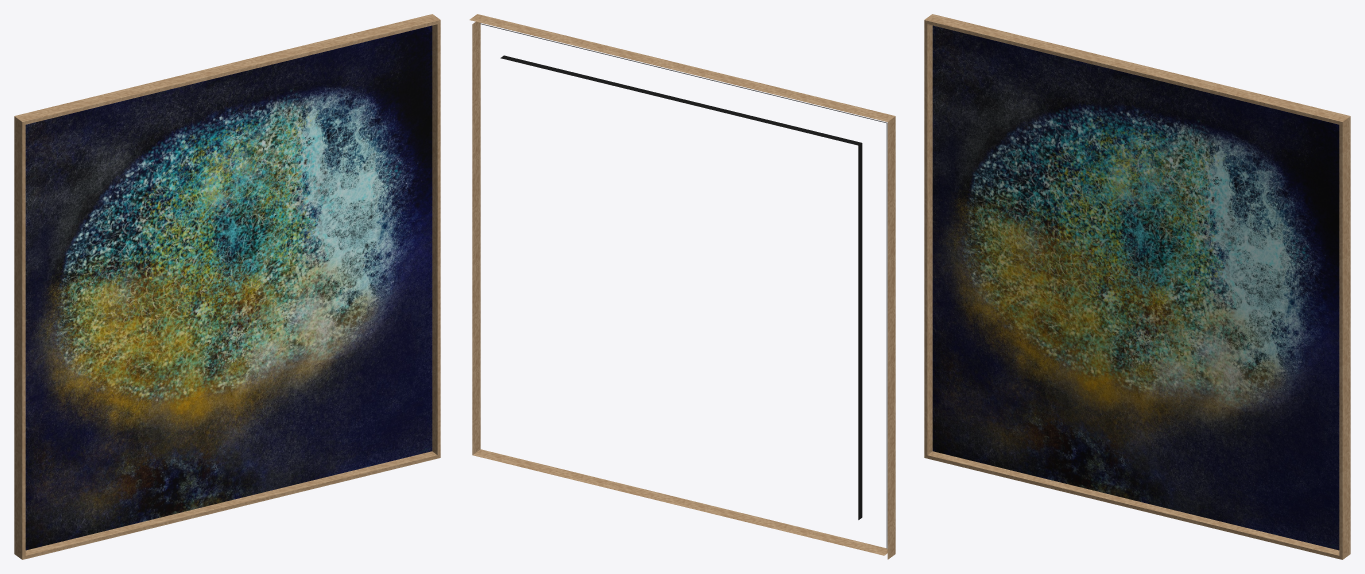
Rendered from va352_grand_caisse-chene.glb.
3 views of the same model, side by side, from view 1: azimuth 30°, elevation 25°; view 2: azimuth 150°, elevation 25°; view 3: azimuth 330°, elevation 25° (orthographic).
Parts seen in each view (by area): view 1: va352_grand_caisse-chene; view 2: va352_grand_caisse-chene; view 3: va352_grand_caisse-chene.
Boxes of the visible parts, x1,y1,x2,y2 form: va352_grand_caisse-chene: [14, 14, 440, 559]; va352_grand_caisse-chene: [469, 14, 895, 559]; va352_grand_caisse-chene: [924, 14, 1350, 559].
Size of the model in its own units: 1.03 by 1.03 by 0.035.
Materials: 4 (2 with a texture image).
